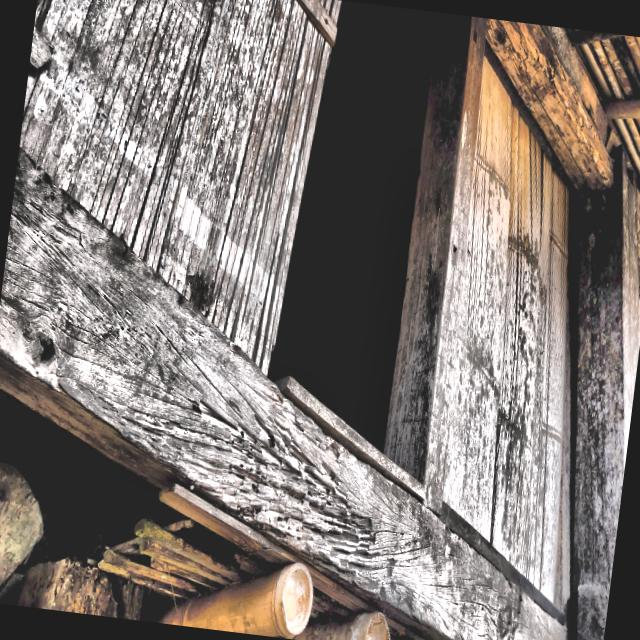door: (266, 0, 472, 488)
roof: (530, 23, 640, 207)
wall: (0, 0, 640, 640)
